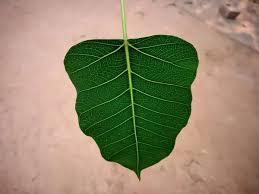healthy_leaf: (59, 30, 203, 183)
